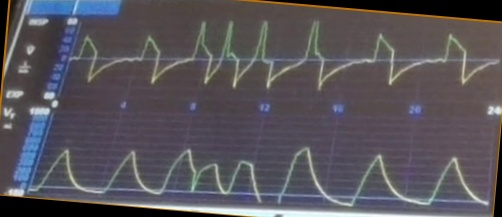Double_Triggering Flow: (79, 18, 447, 93)
Double_Triggering Volume: (36, 139, 455, 207)
